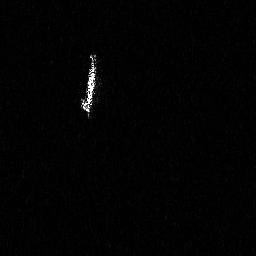ship: (77, 51, 97, 117)
